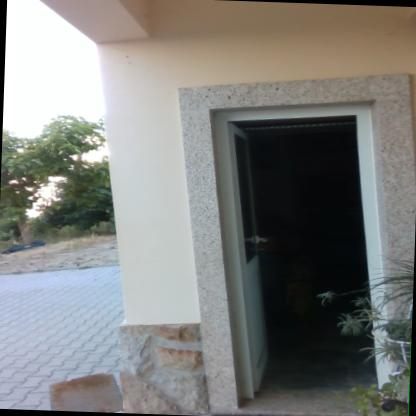open: (196, 88, 407, 416)
